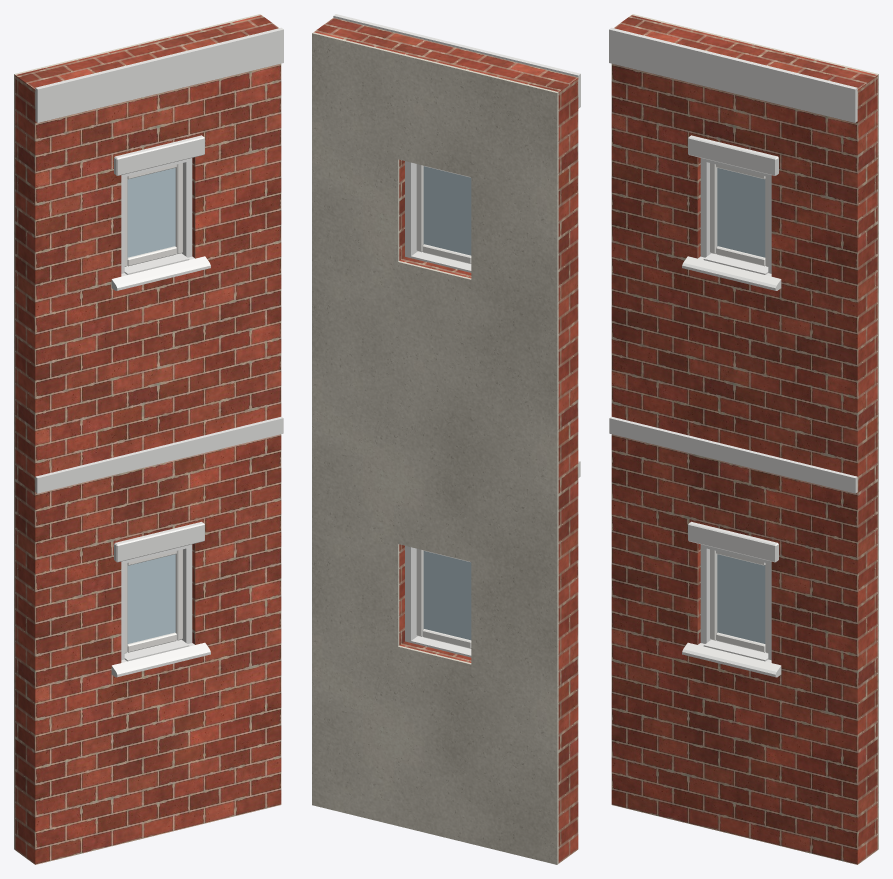
Rendered from wall_hall_small_window.glb.
The picture shows the model from 3 angles, left to right: view 1: azimuth 30°, elevation 25°; view 2: azimuth 150°, elevation 25°; view 3: azimuth 330°, elevation 25°; orthographic projection.
Visible parts, largest first — view 1: wall_hall_small_window_brick, wall_hall_small_window_trim, wall_hall_small_window_glass, wall_hall_small_window_sash, wall_hall_small_window_frame, wall_hall_small_window_plaster; view 2: wall_hall_small_window_plaster, wall_hall_small_window_brick, wall_hall_small_window_glass, wall_hall_small_window_trim, wall_hall_small_window_sash, wall_hall_small_window_frame; view 3: wall_hall_small_window_brick, wall_hall_small_window_trim, wall_hall_small_window_glass, wall_hall_small_window_sash, wall_hall_small_window_frame, wall_hall_small_window_plaster.
Boxes of the visible parts, bbox=[...] form: wall_hall_small_window_brick: bbox=[15, 15, 281, 864]; wall_hall_small_window_trim: bbox=[35, 27, 283, 677]; wall_hall_small_window_glass: bbox=[127, 168, 175, 643]; wall_hall_small_window_sash: bbox=[124, 163, 182, 653]; wall_hall_small_window_frame: bbox=[121, 158, 192, 660]; wall_hall_small_window_plaster: bbox=[14, 14, 260, 849]; wall_hall_small_window_plaster: bbox=[312, 32, 558, 864]; wall_hall_small_window_brick: bbox=[314, 18, 578, 863]; wall_hall_small_window_glass: bbox=[423, 166, 471, 640]; wall_hall_small_window_trim: bbox=[333, 14, 580, 657]; wall_hall_small_window_sash: bbox=[416, 164, 471, 648]; wall_hall_small_window_frame: bbox=[405, 161, 417, 642]; wall_hall_small_window_brick: bbox=[611, 15, 877, 864]; wall_hall_small_window_trim: bbox=[609, 27, 857, 677]; wall_hall_small_window_glass: bbox=[717, 168, 765, 643]; wall_hall_small_window_sash: bbox=[710, 163, 768, 653]; wall_hall_small_window_frame: bbox=[700, 158, 771, 660]; wall_hall_small_window_plaster: bbox=[632, 14, 878, 849].
Bounding box in the file's own units: 2 × 6.03 × 0.38.
Materials: 6 (2 with a texture image).
